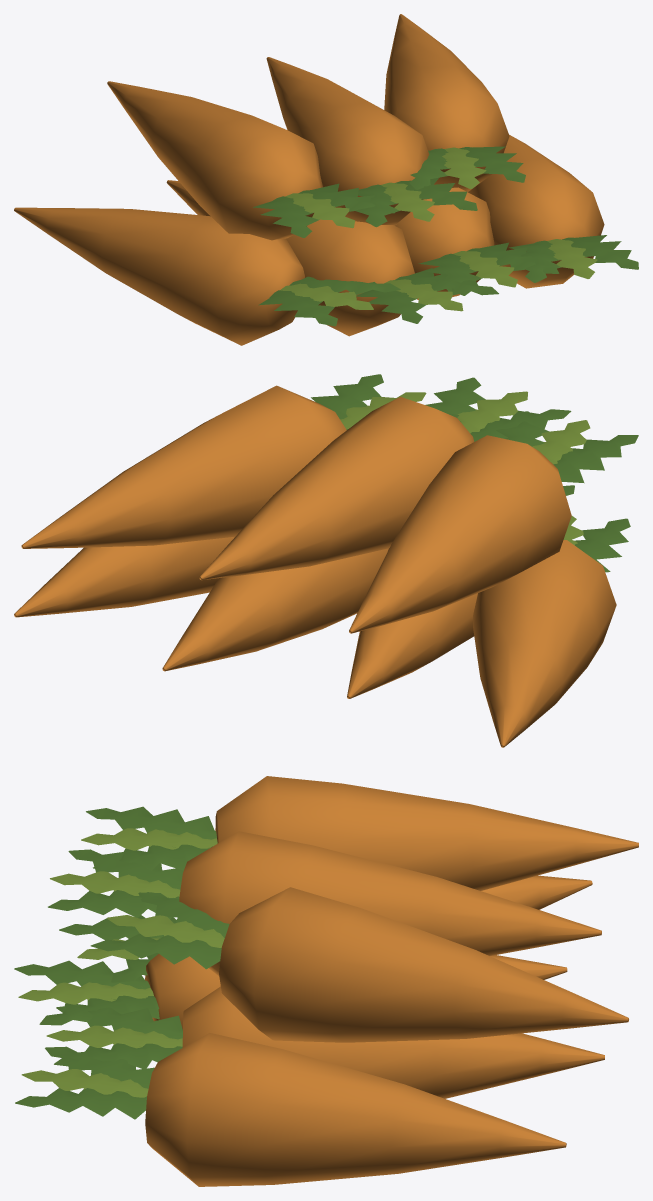
Rendered from pile-vegetable-7.gltf.
3 views of the same model, one above another, from view 1: azimuth 30°, elevation 25°; view 2: azimuth 150°, elevation 25°; view 3: azimuth 270°, elevation 25° (orthographic). The views are drawn at different scales.
Parts seen in each view (by area): view 1: pile-vegetable-7; view 2: pile-vegetable-7; view 3: pile-vegetable-7.
Boxes of the visible parts, left/top/right/bottom form: pile-vegetable-7: left=14, top=14, right=638, bottom=345; pile-vegetable-7: left=14, top=374, right=638, bottom=747; pile-vegetable-7: left=14, top=776, right=638, bottom=1186.
Bounding box in the file's own units: 0.6447 × 0.272 × 0.6406.
